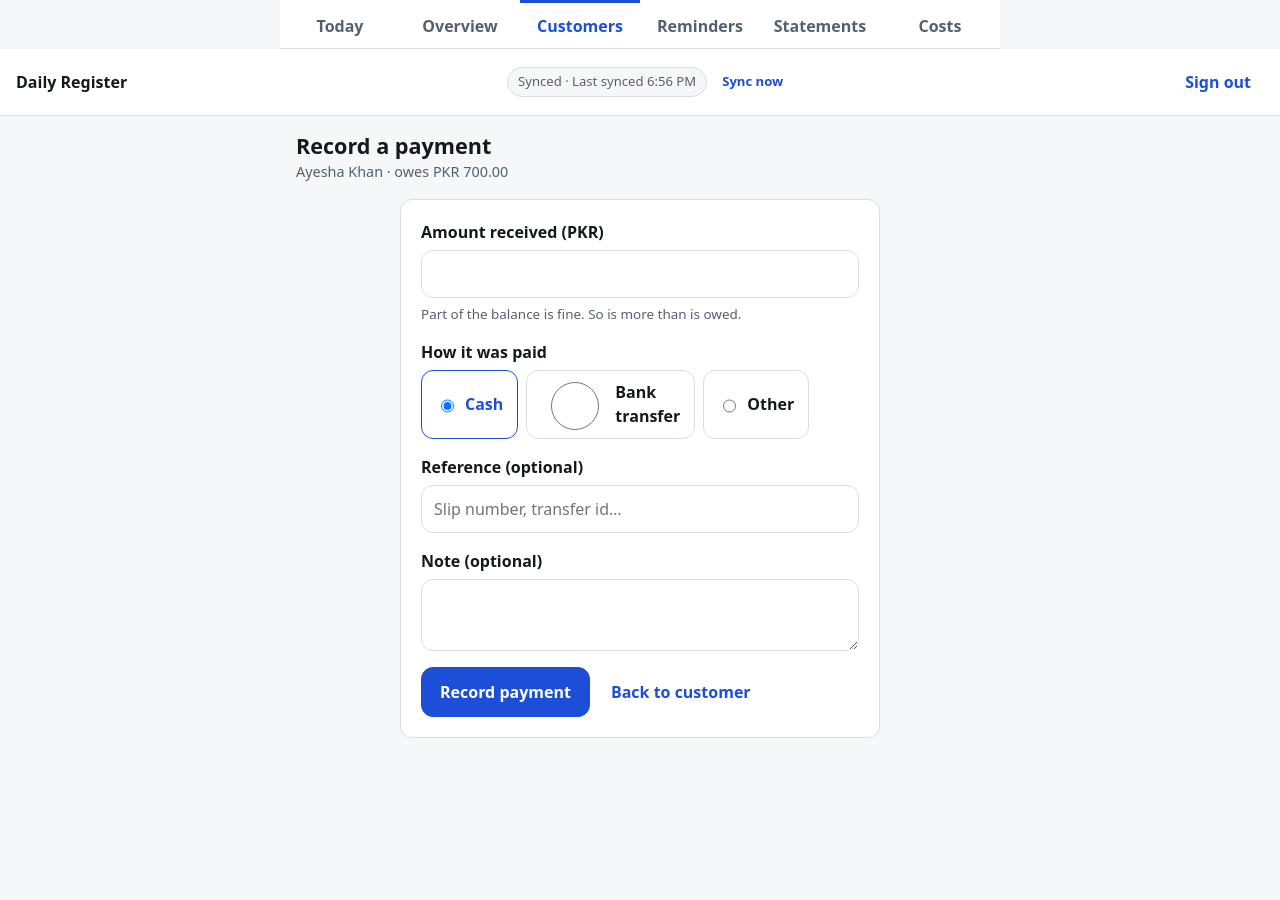
Scenario: recording a payment › never computes the resulting balance itself
The image size is (1280, 900).
Type "250" into the field labelled "Amount received (PKR)".
click(640, 274); type("250")  # box [421,250,859,298]
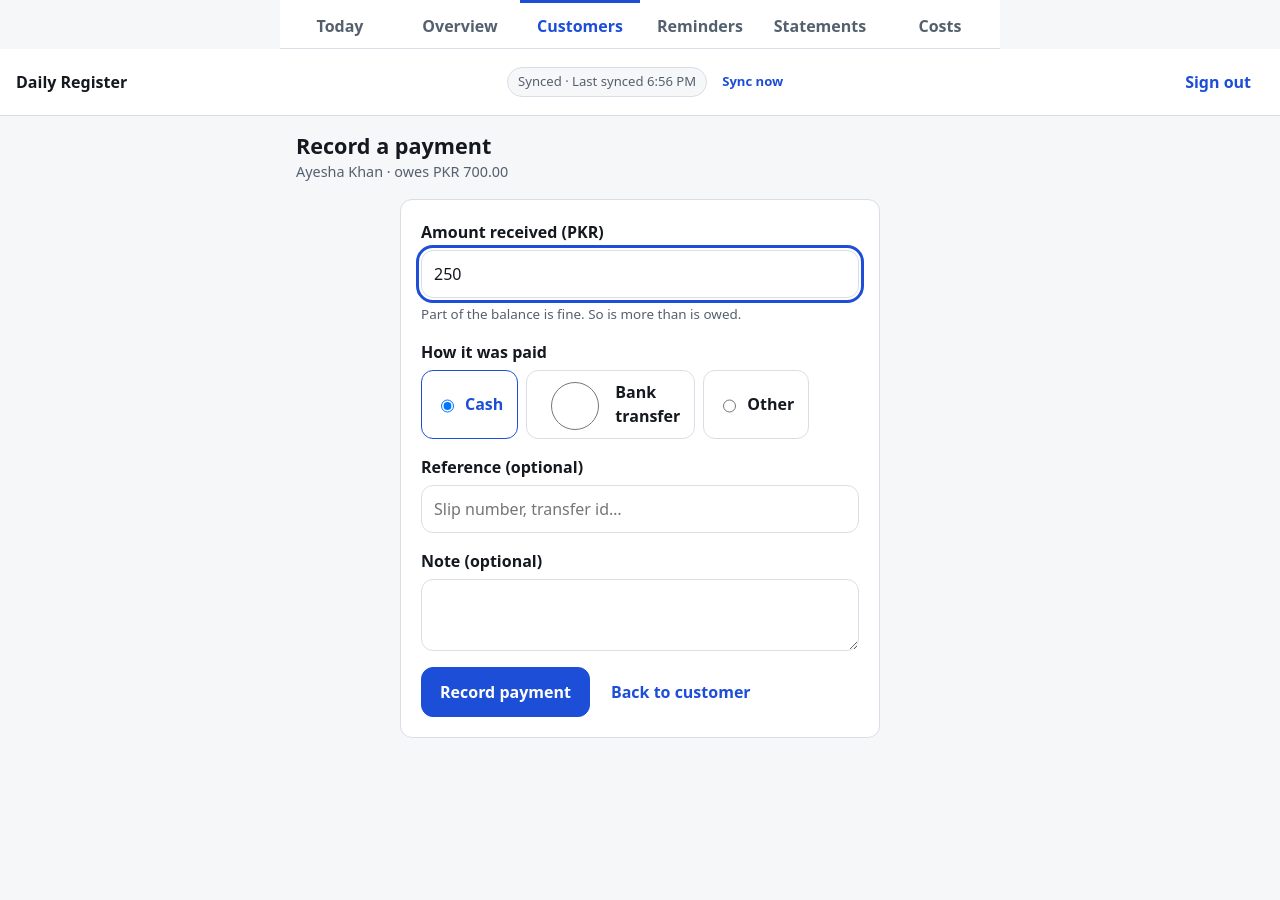
Click the button "Record payment".
click(505, 692)  # box [421,667,590,717]
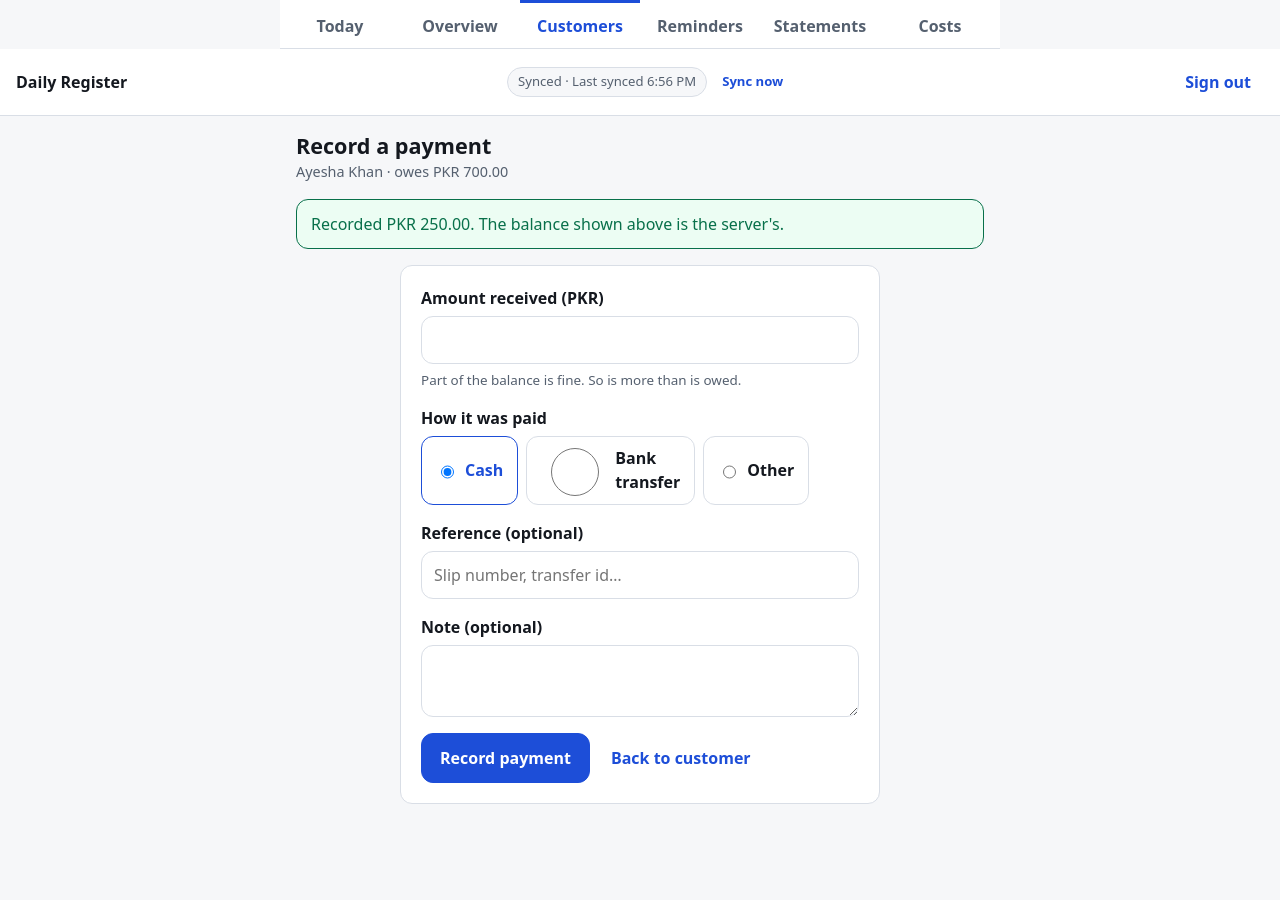
Check: the text "Ayesha Khan · owes PKR 700.00" is shown, box [296,161,508,183]
Check: the text "Recorded PKR 250.00. The balance shown above is the server's." is shown, box [296,199,984,249]
